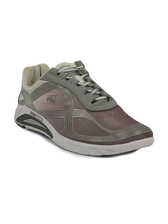shoes: (13, 58, 155, 158)
